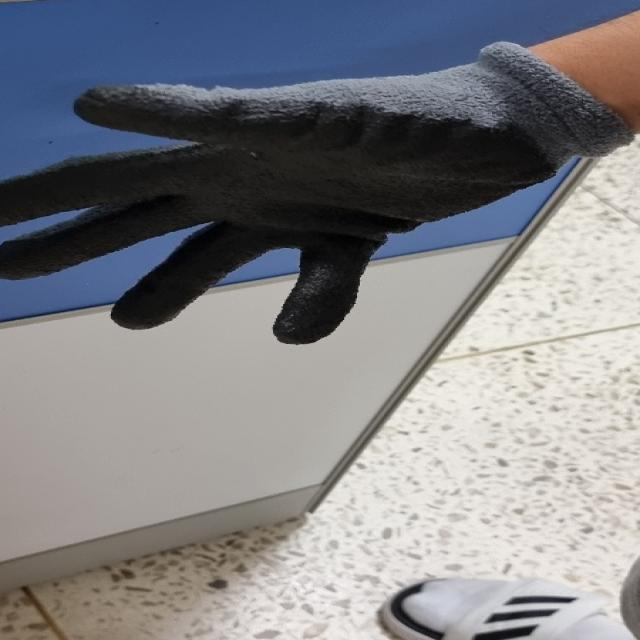Gloves: (0, 36, 636, 350)
